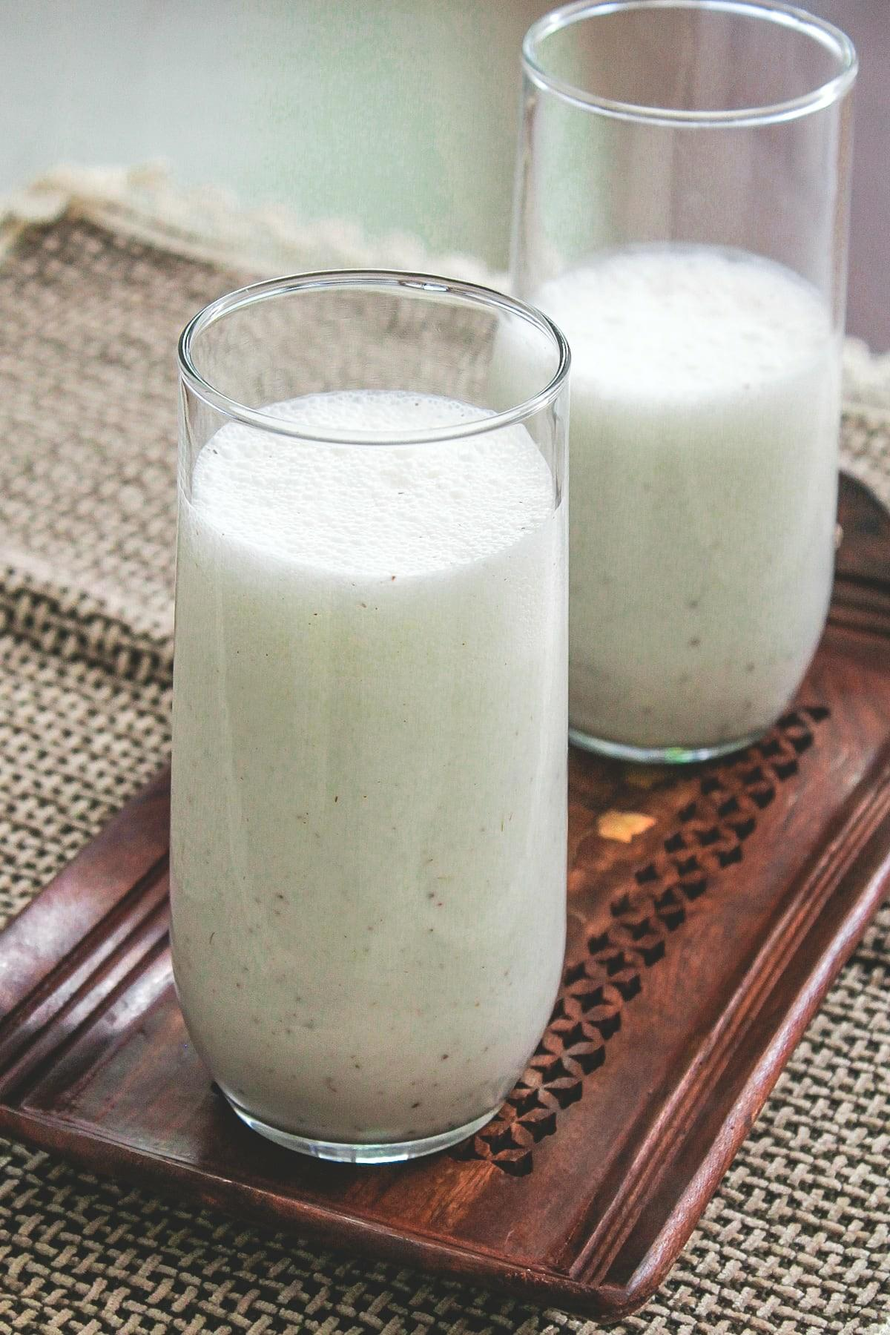Lassi: (170, 391, 568, 1142), (502, 242, 843, 748)
